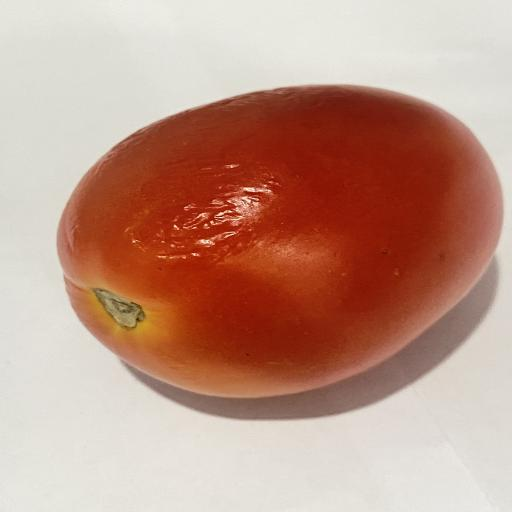spoiled: (58, 85, 502, 397)
